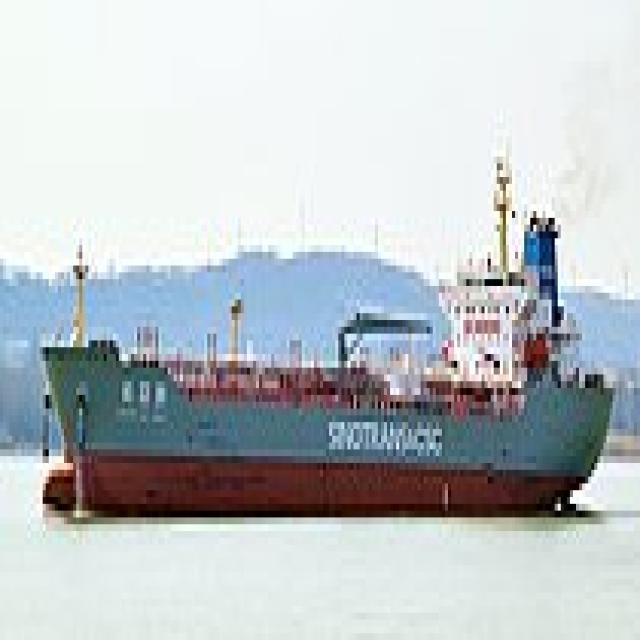Tanker: (33, 130, 612, 524)
